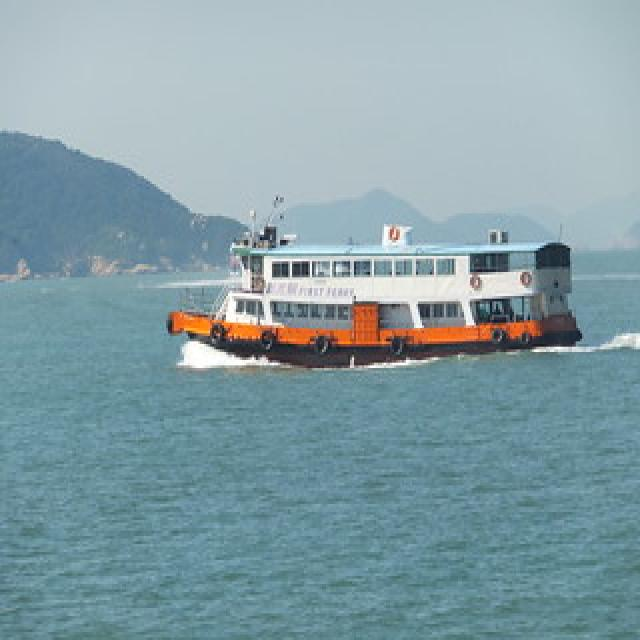passenger ship: (131, 209, 599, 371)
